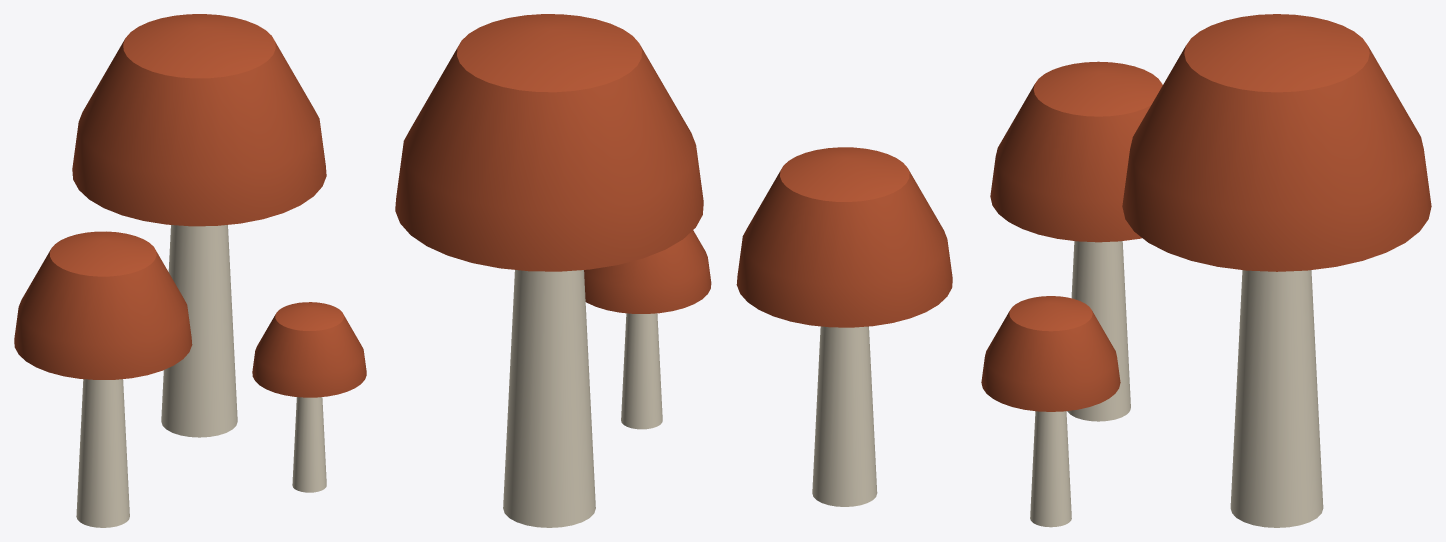
Rendered from setas_40.glb.
3 views of the same model, side by side, from view 1: azimuth 30°, elevation 25°; view 2: azimuth 150°, elevation 25°; view 3: azimuth 270°, elevation 25° (orthographic). The views are drawn at different scales.
Parts seen in each view (by area): view 1: setas_40; view 2: setas_40; view 3: setas_40.
Part boxes in pixels (box(x1,y1,x2,y2)): setas_40: box(14, 14, 366, 527); setas_40: box(395, 14, 952, 527); setas_40: box(981, 14, 1431, 527).
Bounding box in the file's own units: 0.3789 × 0.4 × 0.3407.
